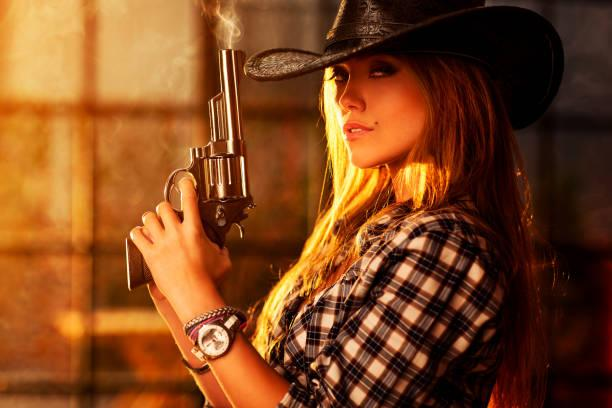weapon: (124, 48, 254, 291)
